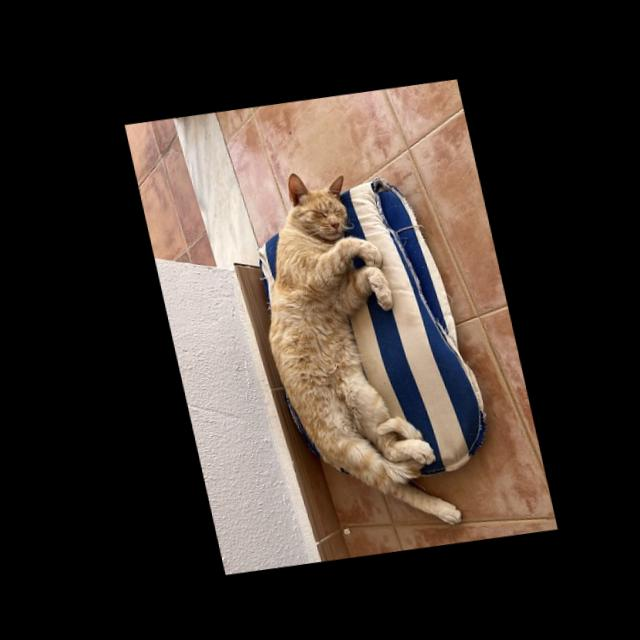animals: (228, 156, 459, 547)
